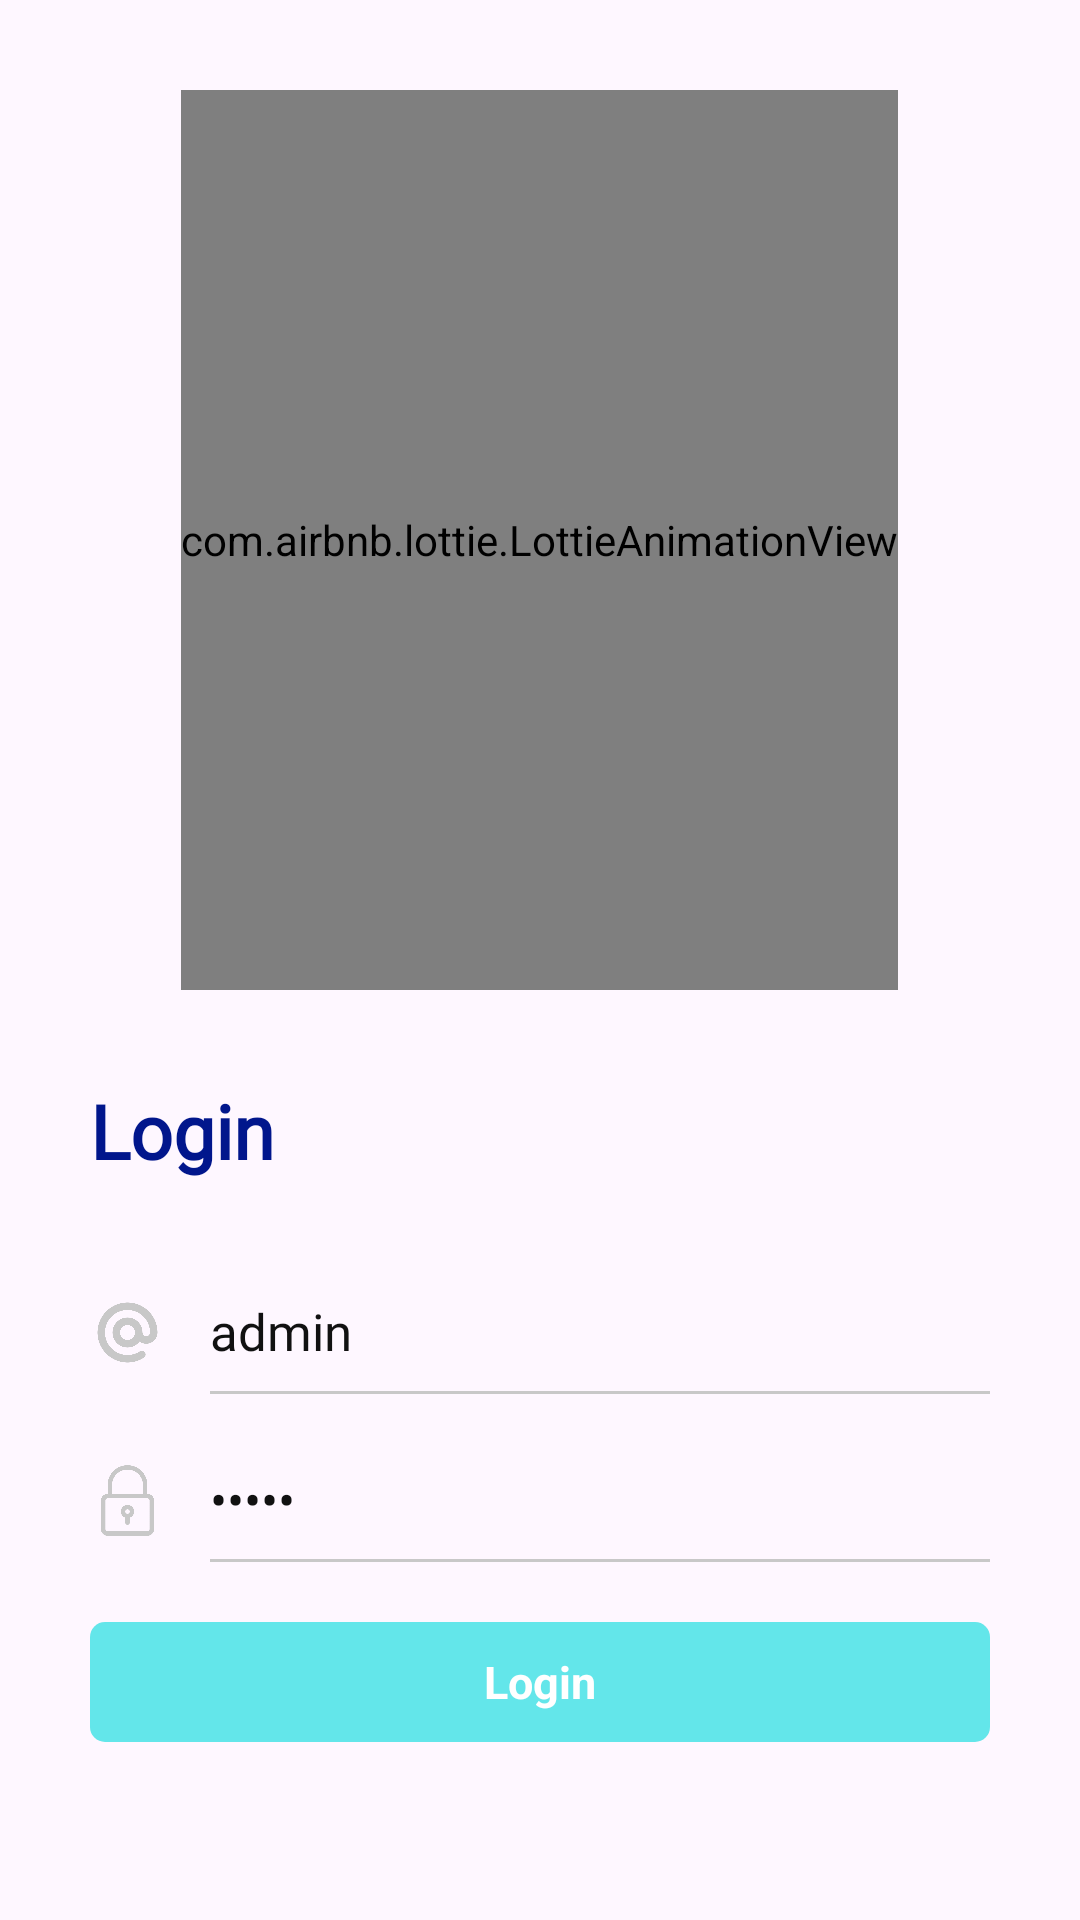

Screen size 1080*1920. Icon name, then its box in pixels as (x1, y1, x2, y2):
email: (97, 1302, 158, 1363)
